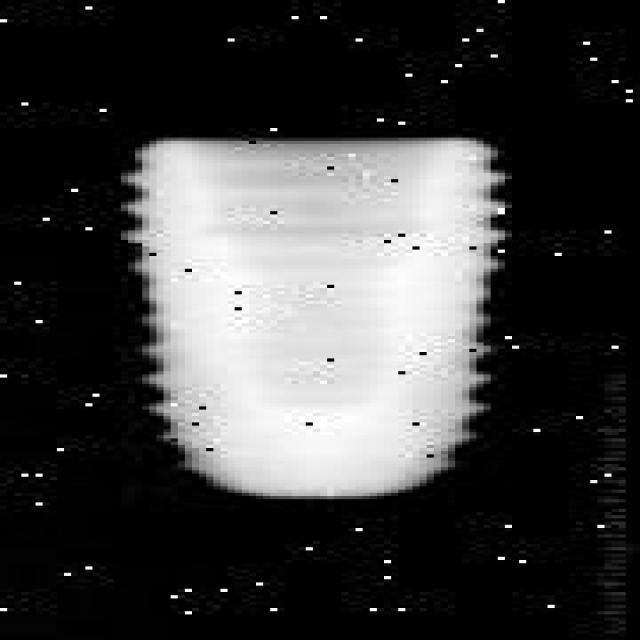Titan Implant Implant: (120, 136, 509, 504)
